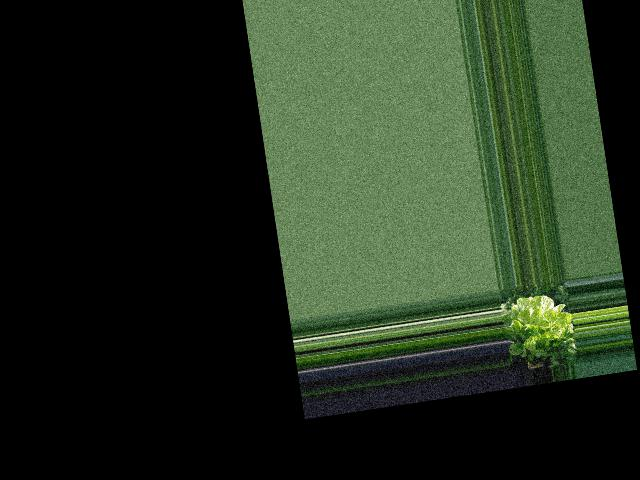lettuce: (501, 292, 570, 359)
